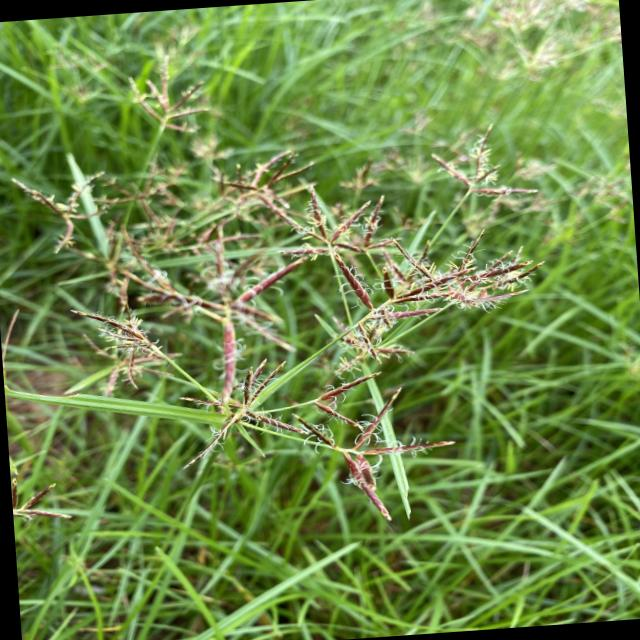cyperus: (195, 120, 564, 533), (0, 48, 294, 394), (218, 125, 558, 384), (168, 339, 450, 538)
